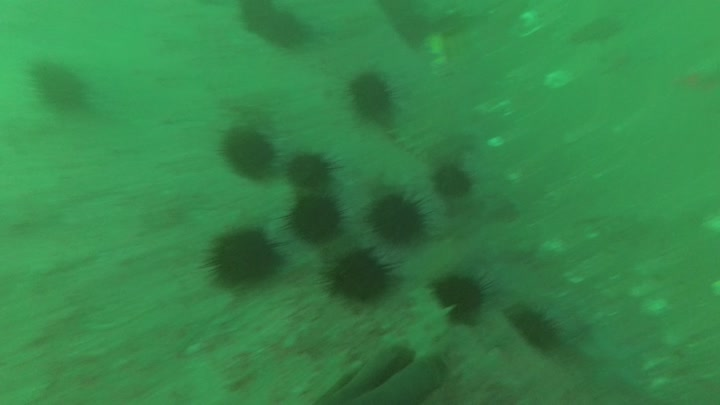echinus: (199, 222, 288, 296), (323, 246, 399, 308), (24, 54, 90, 113), (218, 123, 281, 184), (289, 192, 351, 248), (368, 191, 430, 246), (508, 302, 568, 355), (428, 270, 483, 323), (348, 70, 398, 123), (285, 148, 340, 196), (264, 13, 307, 50), (430, 163, 472, 199), (239, 1, 276, 37)
holothurian: (388, 117, 450, 166)
starfish: (578, 327, 651, 394)
